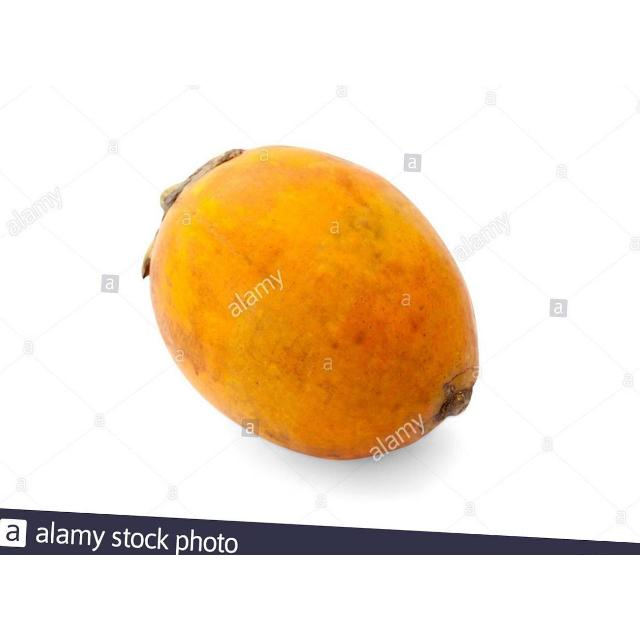good: (145, 146, 481, 463)
